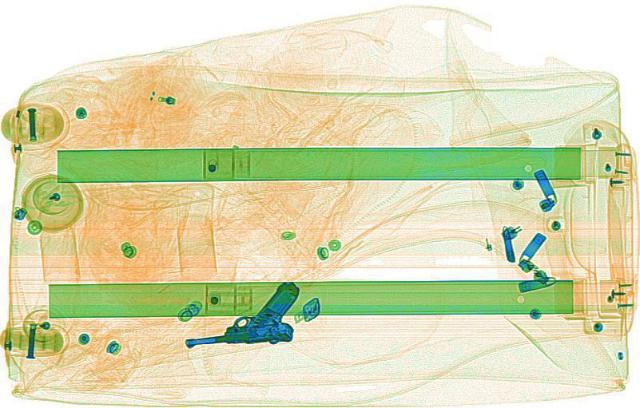Gun: (169, 277, 311, 348)
